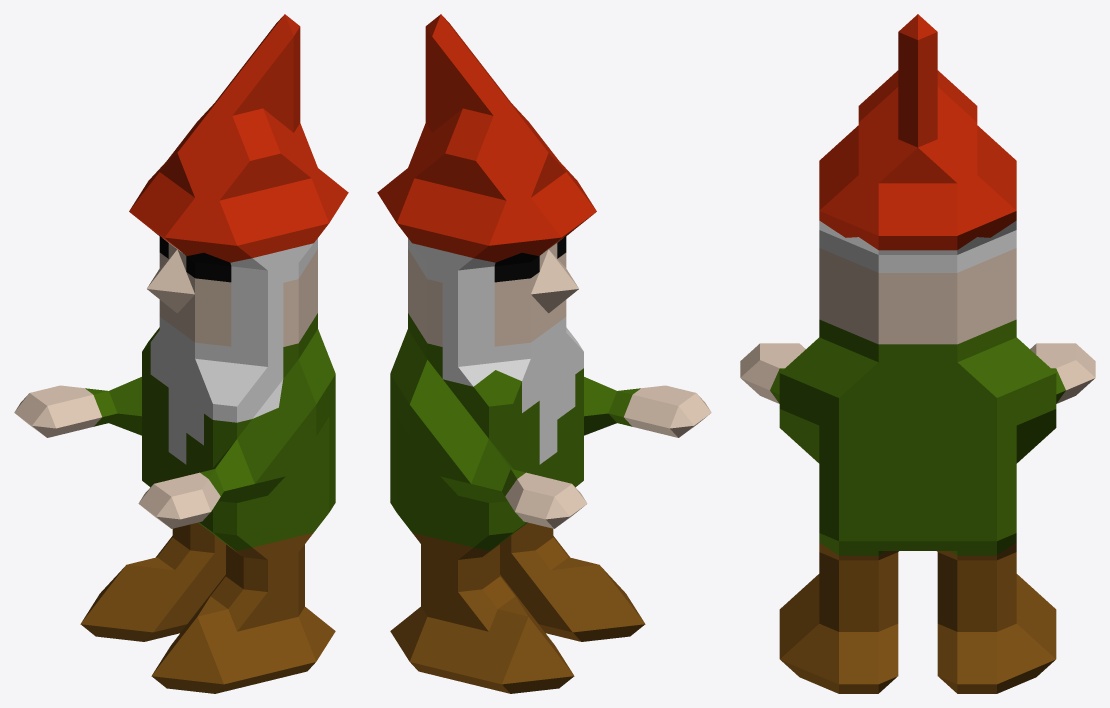
Rendered from rc_gnome.fbx.
3 views of the same model, side by side, from view 1: azimuth 30°, elevation 25°; view 2: azimuth 150°, elevation 25°; view 3: azimuth 270°, elevation 25° (orthographic). The views are drawn at different scales.
Parts seen in each view (by area): view 1: rc_gnome; view 2: rc_gnome; view 3: rc_gnome.
Boxes of the visible parts, x1,y1,x2,y2 form: rc_gnome: (14, 14, 348, 693); rc_gnome: (377, 14, 711, 693); rc_gnome: (740, 14, 1095, 693).
Bounding box in the file's own units: 800 × 1900 × 900.
